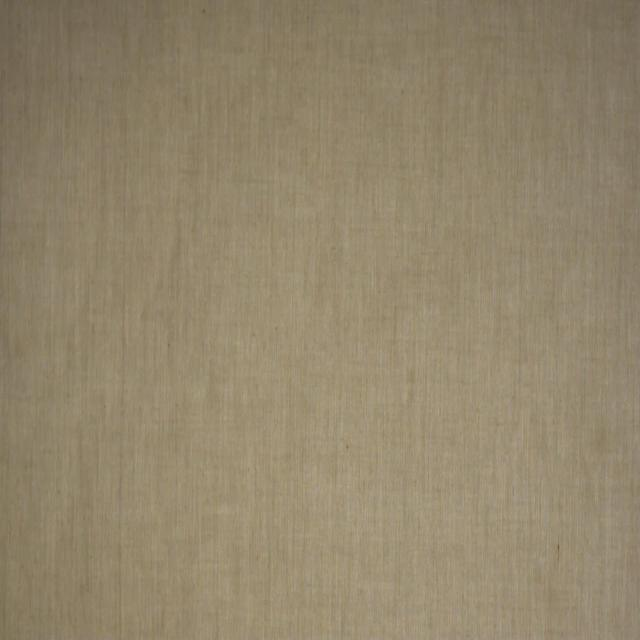dirty: (595, 423, 608, 452)
